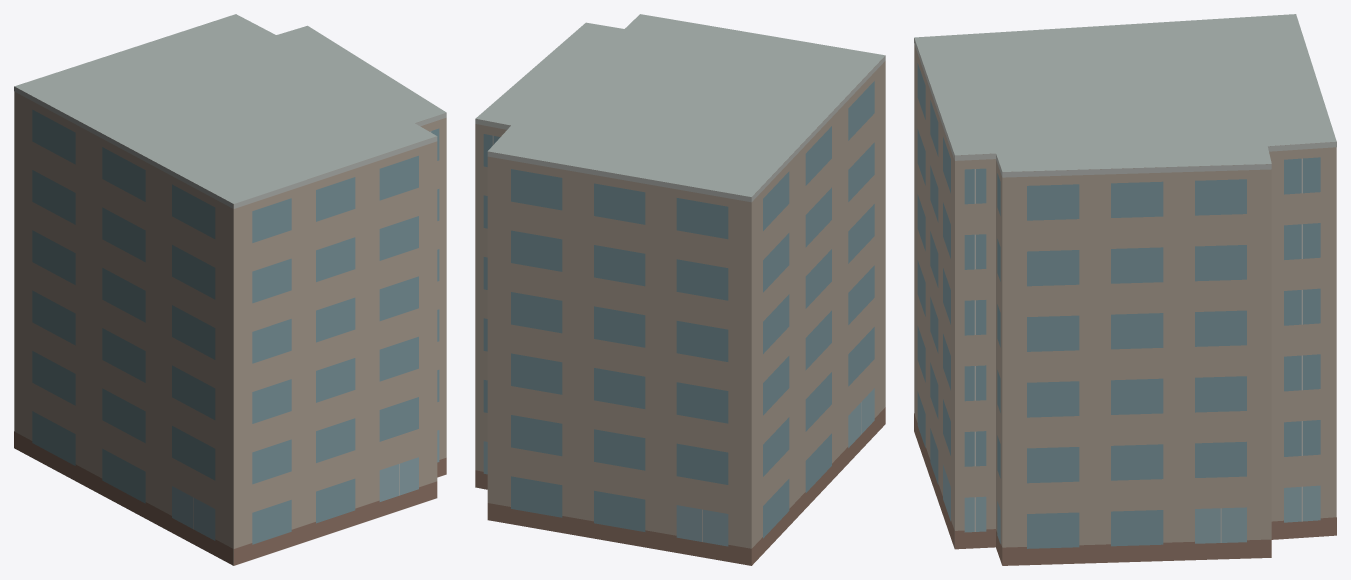
File: survey-upis-32999029.glb
The picture shows the model from 3 angles, left to right: view 1: azimuth 30°, elevation 25°; view 2: azimuth 150°, elevation 25°; view 3: azimuth 270°, elevation 25°; orthographic projection. The views are drawn at different scales.
Parts seen in each view (by area): view 1: survey-upis-32999029.tmp; view 2: survey-upis-32999029.tmp; view 3: survey-upis-32999029.tmp.
Boxes of the visible parts, x1=… form: survey-upis-32999029.tmp: x1=14, y1=14, x2=446, y2=565; survey-upis-32999029.tmp: x1=475, y1=14, x2=885, y2=565; survey-upis-32999029.tmp: x1=914, y1=14, x2=1336, y2=565.
Size of the model in its own units: 14.99 by 17.4 by 16.94.
